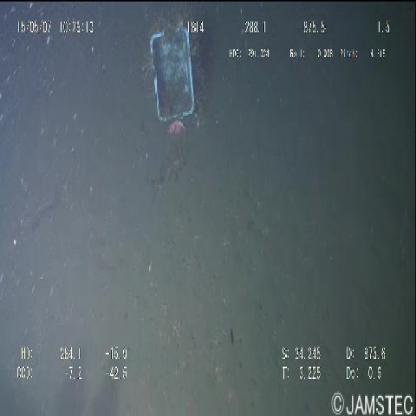Rác: (144, 19, 196, 144)
